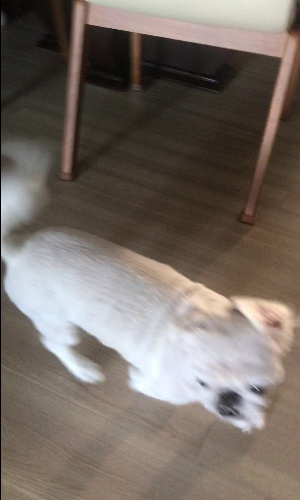ddubi: (1, 137, 297, 438)
